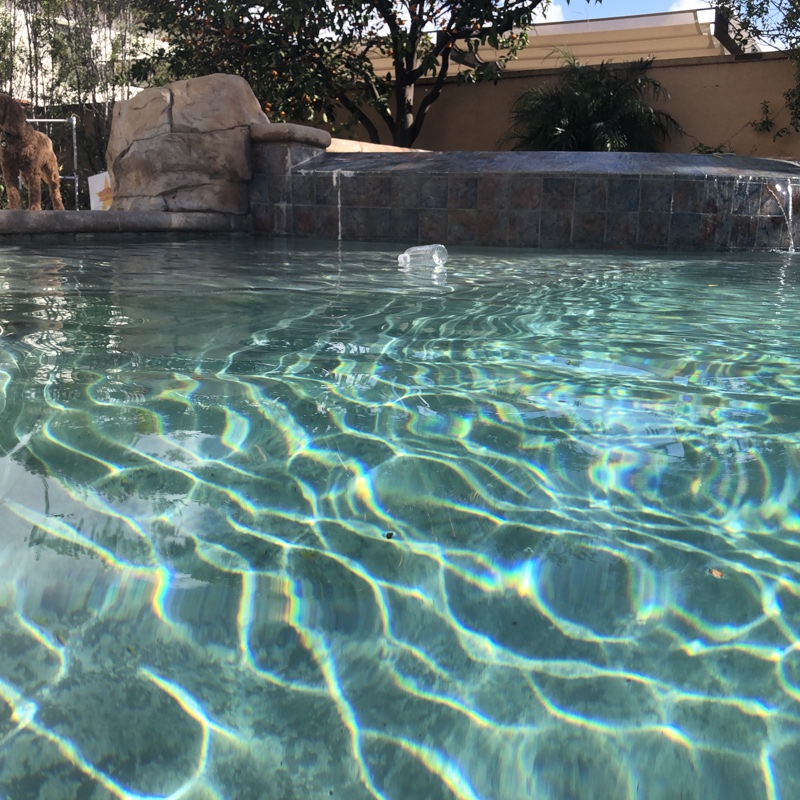Plastic Bottle: (396, 240, 450, 274)
